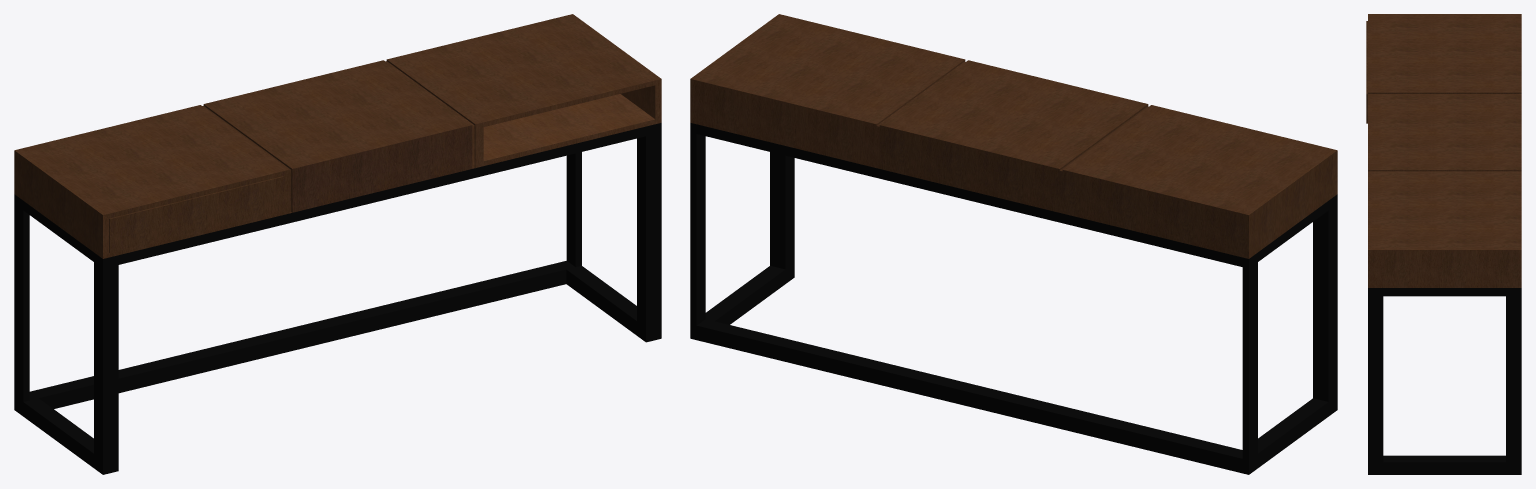
Rendered from 演讲桌.glb.
3 views of the same model, side by side, from view 1: azimuth 30°, elevation 25°; view 2: azimuth 150°, elevation 25°; view 3: azimuth 270°, elevation 25° (orthographic). The views are drawn at different scales.
Visible parts, largest first — view 1: Mesh1 Group1 Aparador_Amsterdam1 Model; view 2: Mesh1 Group1 Aparador_Amsterdam1 Model; view 3: Mesh1 Group1 Aparador_Amsterdam1 Model.
Part boxes in pixels (bbox=[...]): Mesh1 Group1 Aparador_Amsterdam1 Model: bbox=[14, 14, 661, 474]; Mesh1 Group1 Aparador_Amsterdam1 Model: bbox=[690, 14, 1337, 474]; Mesh1 Group1 Aparador_Amsterdam1 Model: bbox=[1366, 14, 1521, 474].
Bounding box in the file's own units: 18 × 8 × 5.
7 materials, 4 textured.
